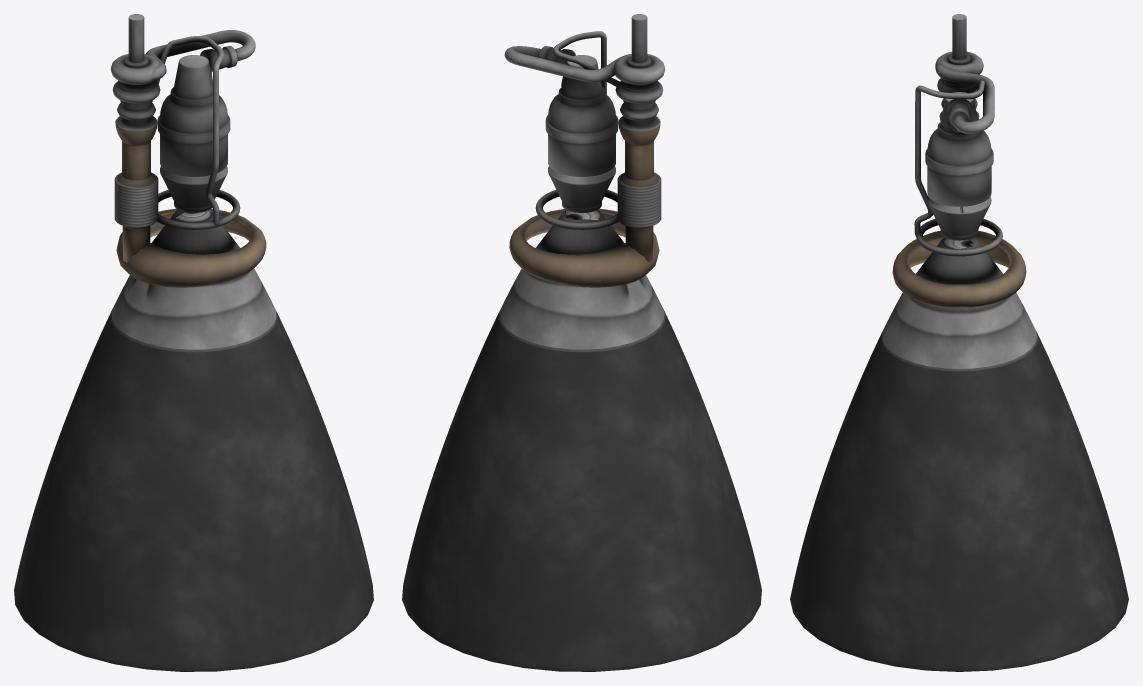
The model's file is MVAC.fbx.
3 renders of one model, left to right at view 1: azimuth 30°, elevation 25°; view 2: azimuth 150°, elevation 25°; view 3: azimuth 270°, elevation 25°, orthographic. The views are drawn at different scales.
Visible parts, largest first — view 1: Nozzle_MVAC, Cycle_MVAC, Chamber_MVAC, Nozzle_Base; view 2: Nozzle_MVAC, Cycle_MVAC, Chamber_MVAC, Nozzle_Base; view 3: Nozzle_MVAC, Cycle_MVAC, Chamber_MVAC, Nozzle_Base.
Part boxes in pixels (x1,y1,x2,y2): Nozzle_MVAC: (14, 210, 373, 671); Cycle_MVAC: (110, 14, 266, 287); Chamber_MVAC: (157, 55, 230, 176); Nozzle_Base: (160, 166, 227, 212); Nozzle_MVAC: (402, 210, 761, 671); Cycle_MVAC: (504, 14, 665, 287); Chamber_MVAC: (545, 55, 618, 176); Nozzle_Base: (548, 166, 615, 212); Nozzle_MVAC: (790, 237, 1128, 671); Cycle_MVAC: (892, 14, 1026, 307); Chamber_MVAC: (925, 92, 993, 206); Nozzle_Base: (927, 196, 991, 240).
Size of the model in its own units: 288 by 523 by 288.
